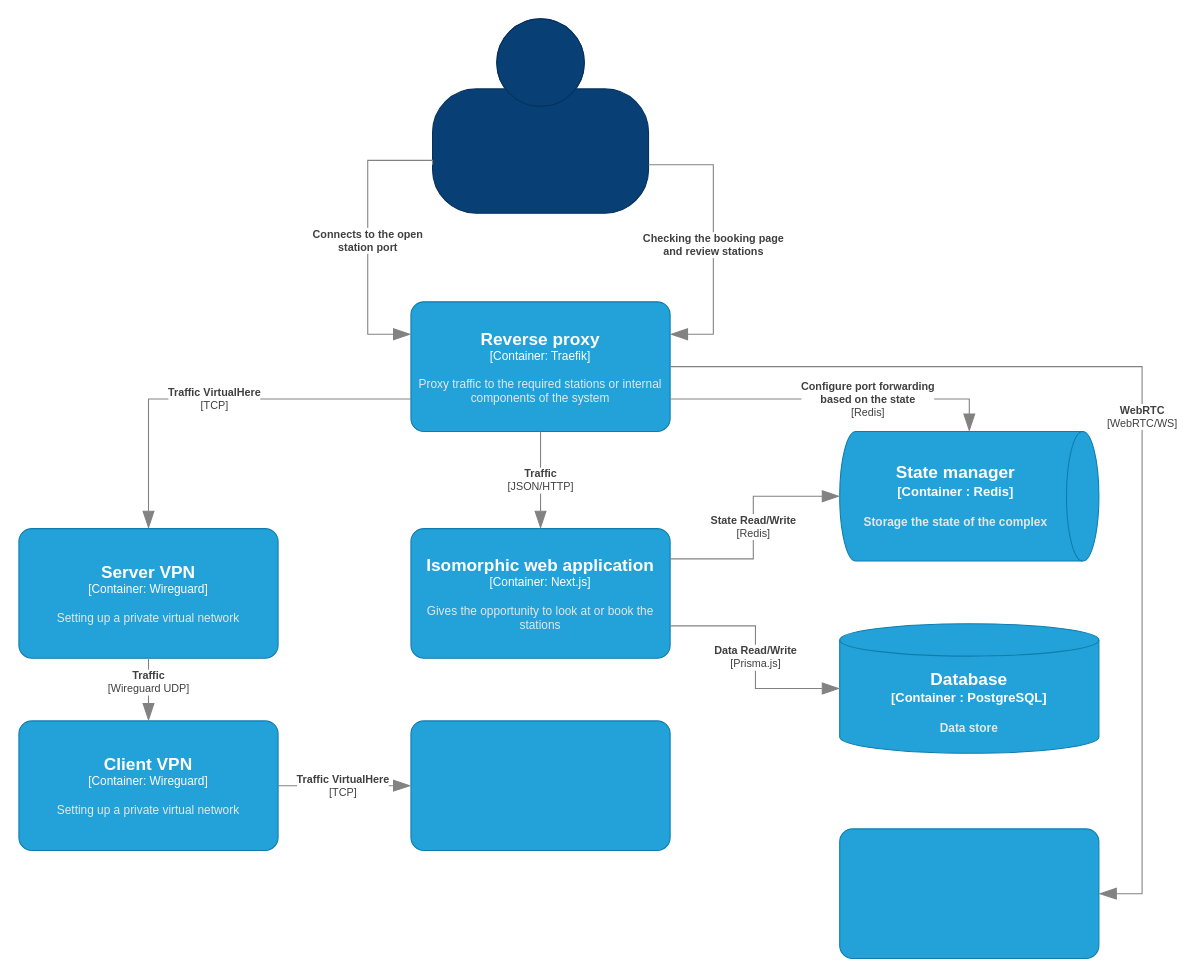
The diagram is 1196 pixels wide and 977 high, and some of its shapes have lost their labels. The centre of each missing label's shape, as x and y in pixels:
SFU Server [Container: ION-SFU] Selective Forwarding Unit: [969,893]
Student [Person] The main system user: [540,115]
VirtualHere Server [Container: VirtualHere] USB into IP encapsulating: [540,785]
